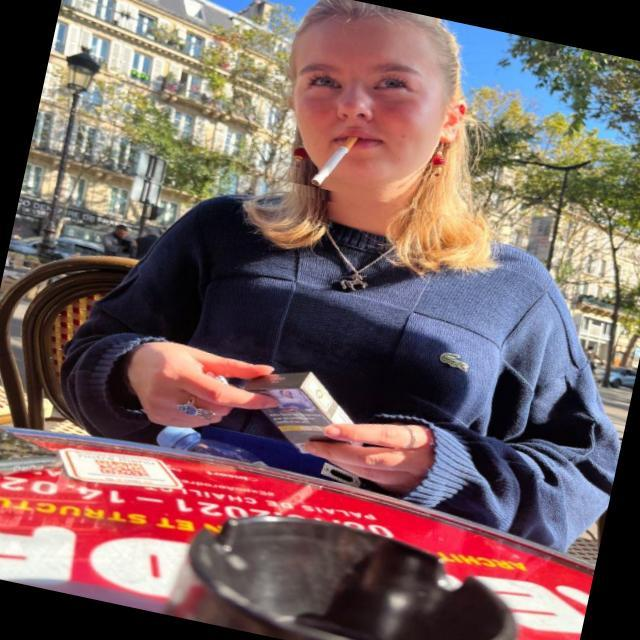cigarette: (296, 122, 384, 210)
